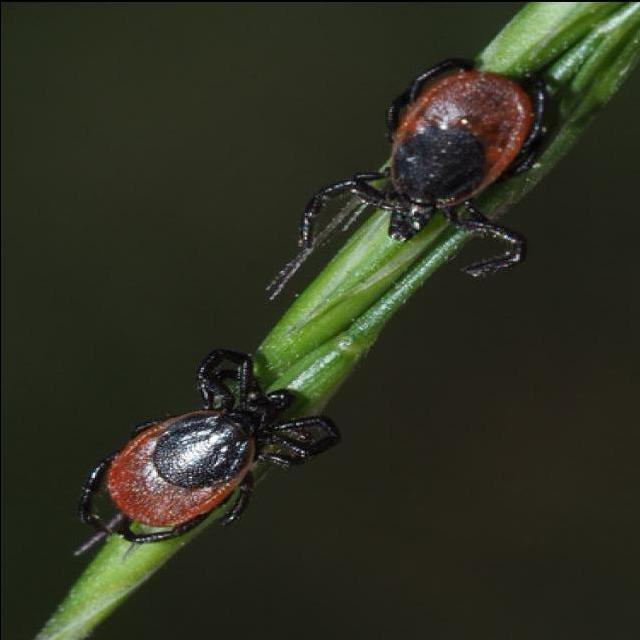Ixodes Ricinus-F: (302, 56, 558, 274), (79, 347, 340, 541)
